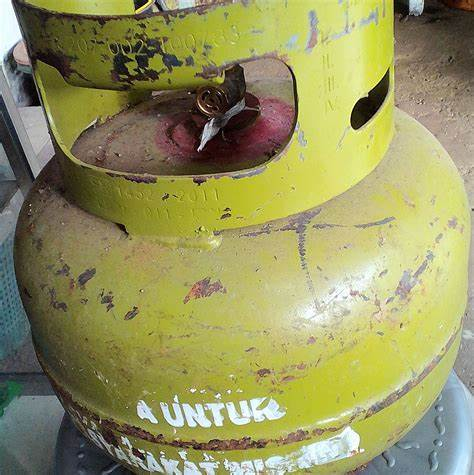gas_ijo: (13, 3, 470, 471)
